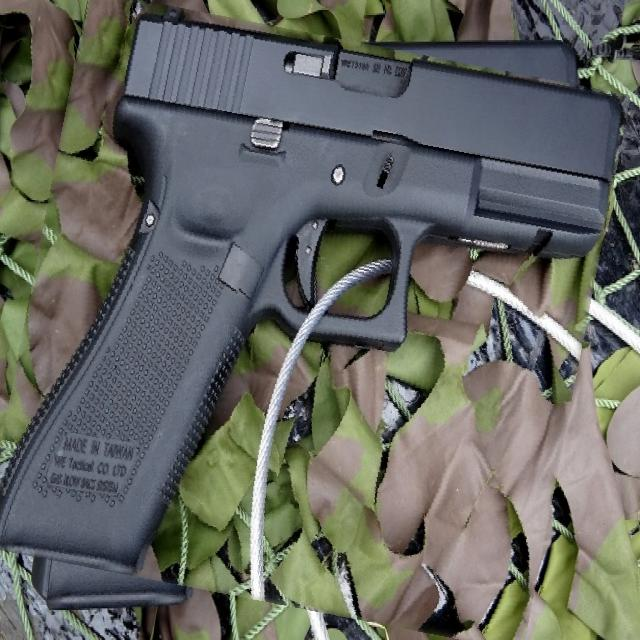gun: (5, 13, 607, 628)
